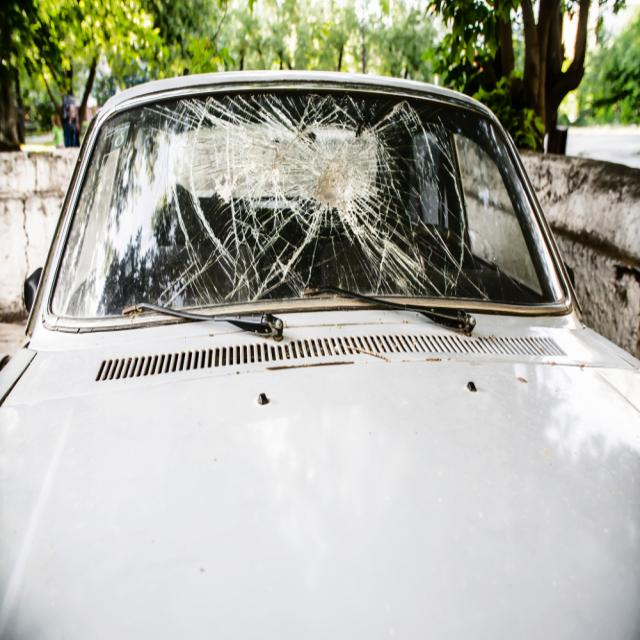Windshield: (187, 84, 465, 309)
